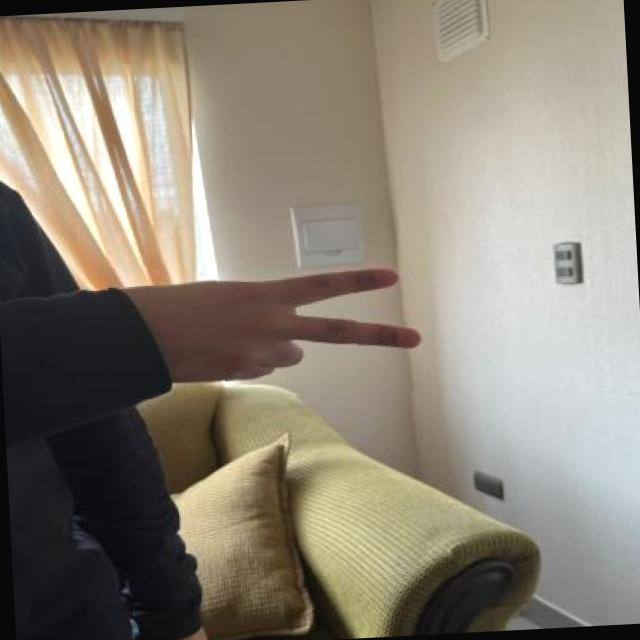H: (107, 252, 426, 407)
